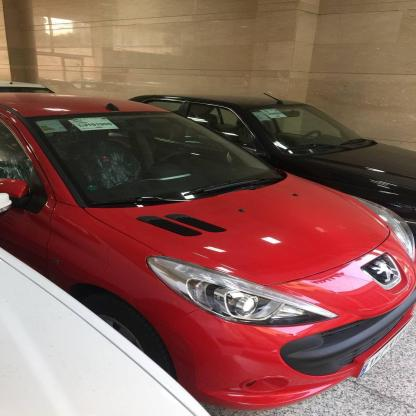Car: (0, 94, 416, 416), (133, 68, 416, 250)
